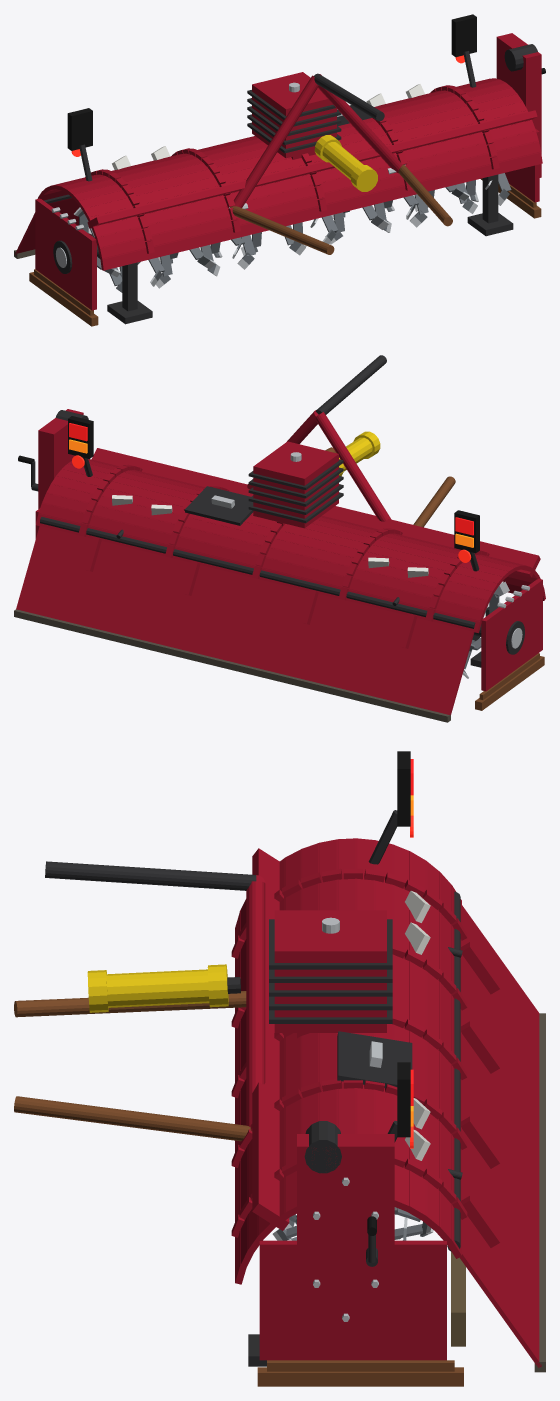
Rendered from rotary_v2.glb.
3 views of the same model, one above another, from view 1: azimuth 30°, elevation 25°; view 2: azimuth 150°, elevation 25°; view 3: azimuth 270°, elevation 25° (orthographic). The views are drawn at different scales.
Parts seen in each view (by area): view 1: Rotary, Rotor, Flap; view 2: Rotary, Flap, Rotor; view 3: Rotary, Flap, Rotor.
Boxes of the visible parts, x1=… form: Rotary: x1=29, y1=14, x2=545, y2=326; Rotor: x1=74, y1=173, x2=511, y2=292; Flap: x1=14, y1=194, x2=92, y2=258; Rotary: x1=18, y1=355, x2=545, y2=710; Flap: x1=14, y1=517, x2=475, y2=722; Rotor: x1=462, y1=581, x2=509, y2=678; Rotary: x1=14, y1=751, x2=467, y2=1386; Flap: x1=447, y1=891, x2=545, y2=1372; Rotor: x1=272, y1=1207, x2=433, y2=1240.
Size of the model in its own units: 2.5 by 1.02 by 1.42.
